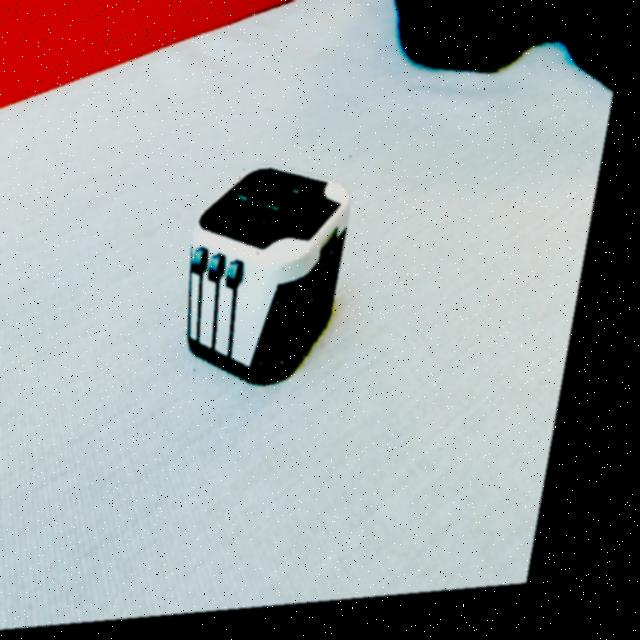adapter: (178, 163, 368, 398)
